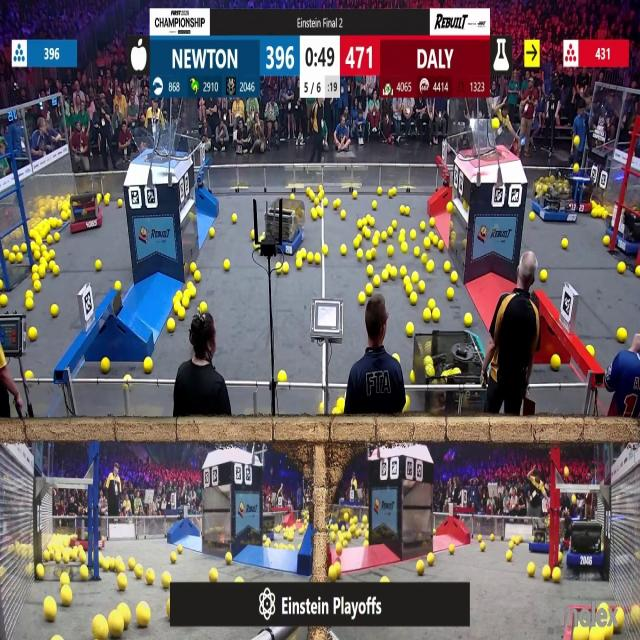ball_airborne: (492, 118, 499, 128), (564, 469, 569, 481), (573, 137, 579, 146), (573, 165, 579, 173), (571, 495, 576, 504)
ball_ground: (137, 605, 150, 629), (96, 618, 109, 640), (44, 598, 56, 621), (62, 588, 72, 607), (616, 611, 625, 629), (116, 574, 126, 590), (618, 327, 628, 342), (552, 354, 561, 370), (328, 565, 337, 580), (144, 356, 152, 372), (102, 356, 110, 372), (164, 572, 172, 588), (0, 346, 6, 367), (36, 564, 44, 579), (135, 566, 144, 579), (407, 322, 415, 336), (553, 568, 561, 582), (541, 566, 549, 580), (146, 570, 154, 584), (417, 561, 425, 575), (573, 628, 583, 639), (210, 568, 218, 581), (168, 319, 176, 332), (30, 327, 38, 340), (80, 566, 88, 579), (464, 313, 471, 327), (224, 553, 232, 565), (278, 371, 286, 383), (368, 248, 376, 260), (528, 563, 535, 576), (61, 574, 70, 584), (364, 284, 372, 295), (432, 310, 439, 322), (0, 294, 7, 306), (50, 306, 57, 318), (423, 310, 430, 322), (451, 272, 458, 284), (411, 292, 418, 304), (358, 291, 365, 303), (427, 554, 434, 566), (34, 280, 41, 292), (178, 308, 185, 320), (115, 558, 122, 570), (426, 263, 434, 273), (382, 272, 390, 282), (338, 398, 346, 408), (27, 300, 34, 311), (387, 245, 394, 256), (445, 263, 452, 274), (315, 252, 322, 263), (374, 276, 381, 287), (182, 296, 189, 307), (79, 553, 86, 564), (419, 281, 425, 293), (448, 288, 454, 300), (366, 266, 372, 278), (390, 268, 396, 280), (104, 192, 110, 204), (201, 303, 208, 313), (171, 553, 178, 563), (603, 236, 610, 246), (341, 245, 348, 255), (399, 268, 406, 278), (34, 250, 41, 260), (356, 250, 363, 260), (317, 208, 324, 218), (129, 559, 136, 569), (48, 264, 55, 274), (54, 267, 61, 277), (403, 278, 410, 288), (376, 232, 383, 242), (620, 264, 626, 275), (413, 273, 419, 284), (193, 272, 199, 283), (354, 238, 360, 249), (39, 268, 45, 279), (318, 405, 324, 416), (362, 225, 368, 236), (296, 250, 304, 258), (420, 254, 428, 262), (22, 244, 29, 253), (592, 209, 599, 218), (562, 240, 568, 250), (96, 262, 102, 272), (114, 281, 120, 291), (223, 262, 229, 272), (540, 272, 546, 282), (283, 264, 289, 274), (322, 245, 328, 255), (506, 552, 512, 562), (295, 261, 301, 271), (309, 252, 315, 262), (424, 240, 430, 250), (189, 264, 195, 274), (440, 241, 446, 251), (368, 217, 374, 227), (407, 284, 413, 294), (428, 298, 434, 308), (384, 230, 390, 240), (335, 200, 341, 210), (337, 542, 343, 552), (556, 553, 562, 563), (236, 575, 244, 582), (27, 290, 34, 298), (382, 575, 389, 583), (361, 218, 368, 226), (308, 190, 315, 198), (515, 535, 522, 543), (13, 245, 20, 253), (411, 372, 416, 383), (448, 203, 453, 214), (399, 231, 404, 242), (412, 231, 418, 240), (189, 288, 195, 297), (371, 238, 377, 247), (16, 253, 22, 262), (8, 253, 14, 262), (429, 218, 435, 227), (588, 346, 594, 355), (41, 250, 47, 259), (403, 402, 409, 411), (450, 543, 455, 553), (342, 210, 347, 220), (4, 250, 9, 260), (420, 222, 426, 230), (27, 369, 33, 377), (186, 282, 192, 290), (393, 353, 399, 361), (55, 234, 61, 242), (33, 273, 39, 281), (46, 236, 52, 244), (507, 541, 513, 549), (312, 208, 316, 220), (39, 256, 45, 264), (388, 189, 394, 197), (64, 555, 70, 563), (401, 244, 406, 253), (49, 250, 54, 259), (399, 206, 404, 215), (32, 241, 37, 250), (406, 207, 411, 216), (432, 238, 437, 247), (636, 267, 640, 278), (176, 290, 182, 297), (386, 266, 392, 273), (475, 534, 481, 541), (233, 214, 238, 222), (371, 202, 376, 210), (210, 230, 215, 238), (415, 248, 420, 256), (323, 200, 328, 208), (392, 220, 397, 228), (378, 187, 383, 195), (183, 289, 188, 297), (276, 264, 282, 270), (0, 281, 4, 290), (364, 530, 368, 539), (123, 376, 129, 382), (33, 266, 38, 273), (362, 517, 367, 524), (178, 544, 182, 552), (530, 212, 534, 220), (482, 542, 486, 550), (251, 232, 255, 240), (120, 201, 124, 209), (353, 190, 357, 198), (55, 636, 63, 640), (364, 539, 368, 547), (344, 539, 348, 547), (98, 192, 102, 200), (491, 534, 495, 541), (290, 192, 294, 198), (432, 528, 435, 535)
goal: (465, 122, 521, 159), (132, 132, 188, 160)
robot_blue: (264, 197, 308, 254), (532, 171, 579, 221), (0, 543, 22, 633), (567, 519, 605, 567), (617, 192, 640, 256), (529, 518, 550, 552), (261, 514, 281, 541)
robot_red: (410, 331, 484, 410), (69, 193, 102, 232)
